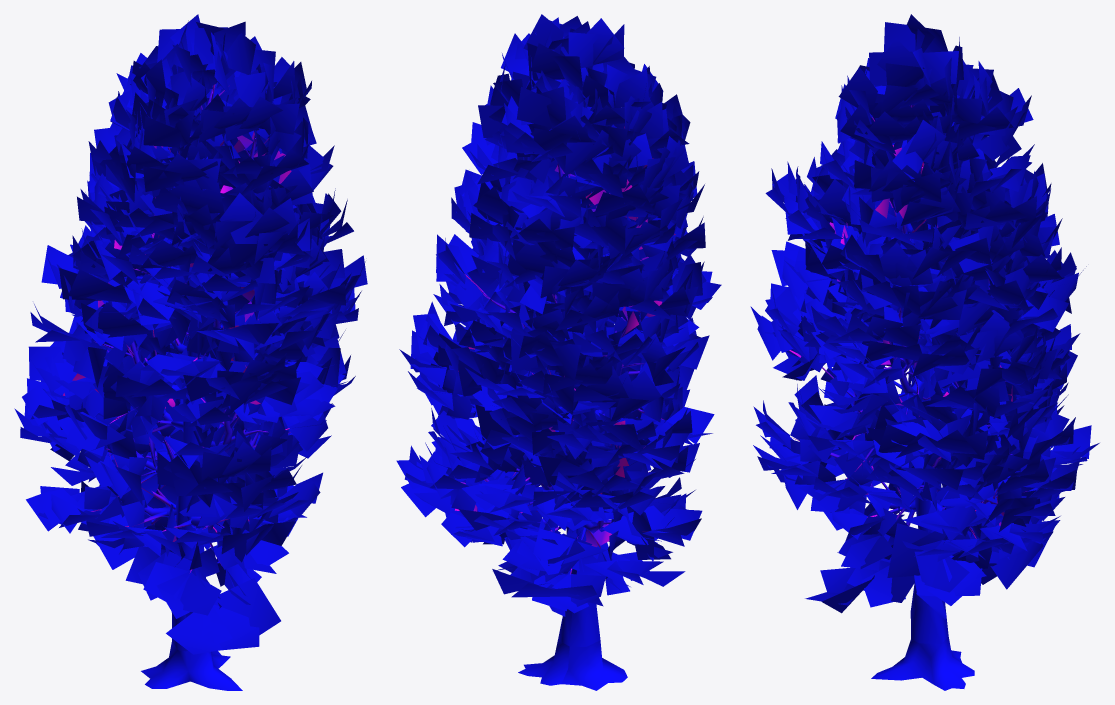
The model's file is SM_Tree_01_V2_Foliage.fbx.
The picture shows the model from 3 angles, left to right: view 1: azimuth 30°, elevation 25°; view 2: azimuth 150°, elevation 25°; view 3: azimuth 270°, elevation 25°; orthographic projection.
Visible parts, largest first — view 1: SM_Tree_01_V2_LOD1; view 2: SM_Tree_01_V2_LOD1; view 3: SM_Tree_01_V2_LOD1.
Boxes of the visible parts, x1=… form: SM_Tree_01_V2_LOD1: x1=14, y1=14, x2=367, y2=690; SM_Tree_01_V2_LOD1: x1=396, y1=14, x2=721, y2=690; SM_Tree_01_V2_LOD1: x1=750, y1=14, x2=1099, y2=690.
Size of the model in its own units: 606 by 1267 by 621.
